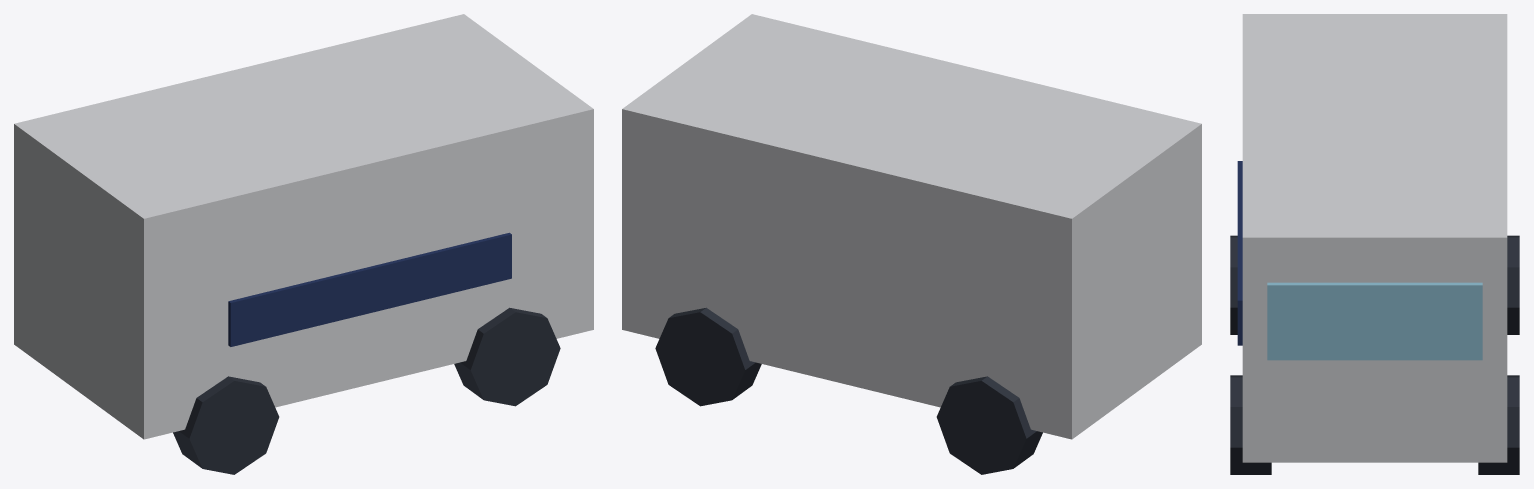
Rendered from van.glb.
3 renders of one model, left to right at view 1: azimuth 30°, elevation 25°; view 2: azimuth 150°, elevation 25°; view 3: azimuth 270°, elevation 25°, orthographic.
Parts seen in each view (by area): view 1: van; view 2: van; view 3: van.
Boxes of the visible parts, x1,y1,x2,y2 form: van: [14, 14, 593, 474]; van: [622, 14, 1201, 474]; van: [1230, 14, 1519, 474].
Size of the model in its own units: 3.24 by 1.85 by 1.75.
